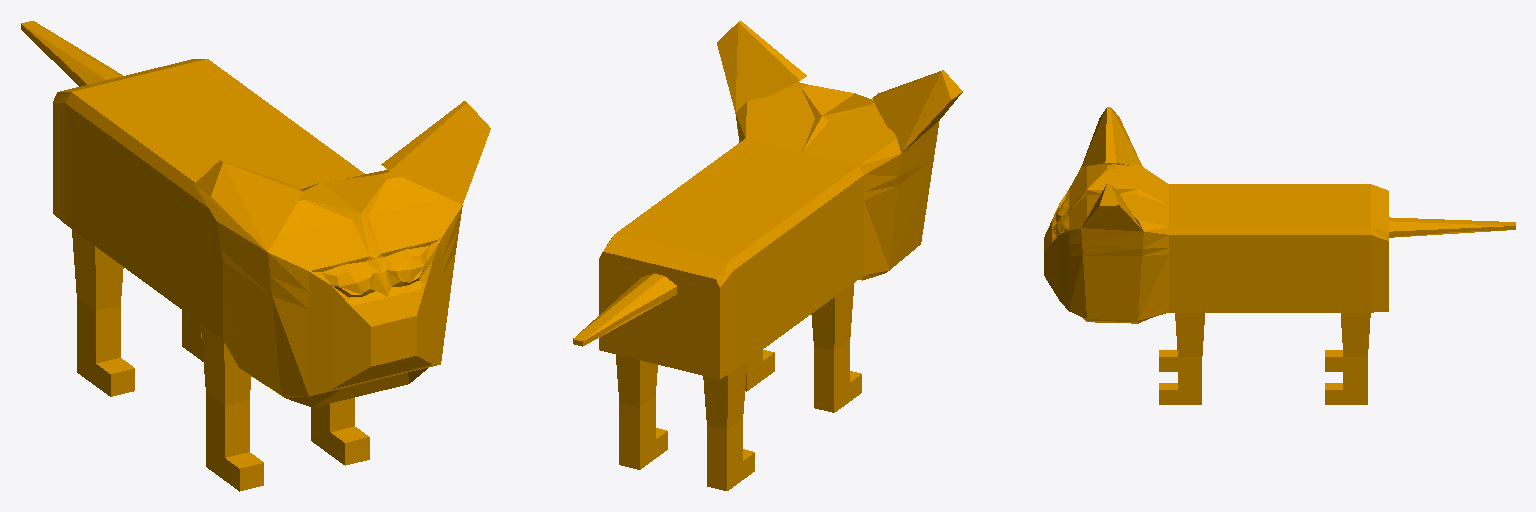
The robot description file, URDF, robot "mesh_object":
<robot name="mesh_object">
            <link name="base">
                <visual>
                    <geometry>
                        <mesh filename="pet_0_v000.obj" scale="1 1 1" />
                    </geometry>
                </visual>
                <collision>
                    <geometry>
                        <mesh filename="pet_0_v000.obj" scale="1 1 1" />
                    </geometry>
                </collision>
                <inertial>
                    <origin xyz="0.000000 0.000000 0.028575" rpy="0 0 0" />
                    <mass value="0.500000" />
                    <inertia ixx="0.01" iyy="0.01" izz="0.01" ixy="0" ixz="0" iyz="0" />
                </inertial>
            </link>
            </robot>

--- Facts derived from the render (not from the file) ---
3 views of the same robot in one strip: view 1: azimuth 30°, elevation 25°; view 2: azimuth 150°, elevation 25°; view 3: azimuth 270°, elevation 25° (orthographic).
Model mesh_object with 1 links and 0 joints (none), rooted at base, posed every joint at zero.
Links seen in each view (by area): view 1: base; view 2: base; view 3: base.
Link boxes in pixels (left/top/right/bottom): base: left=21, top=21, right=490, bottom=491; base: left=573, top=21, right=962, bottom=490; base: left=1044, top=107, right=1515, bottom=404.
Size in the robot's own frame: 0.0453 by 0.1019 by 0.0571 metres.
Meshes: 1 distinct files referenced, 1 mesh visuals loaded (1 OBJ).
